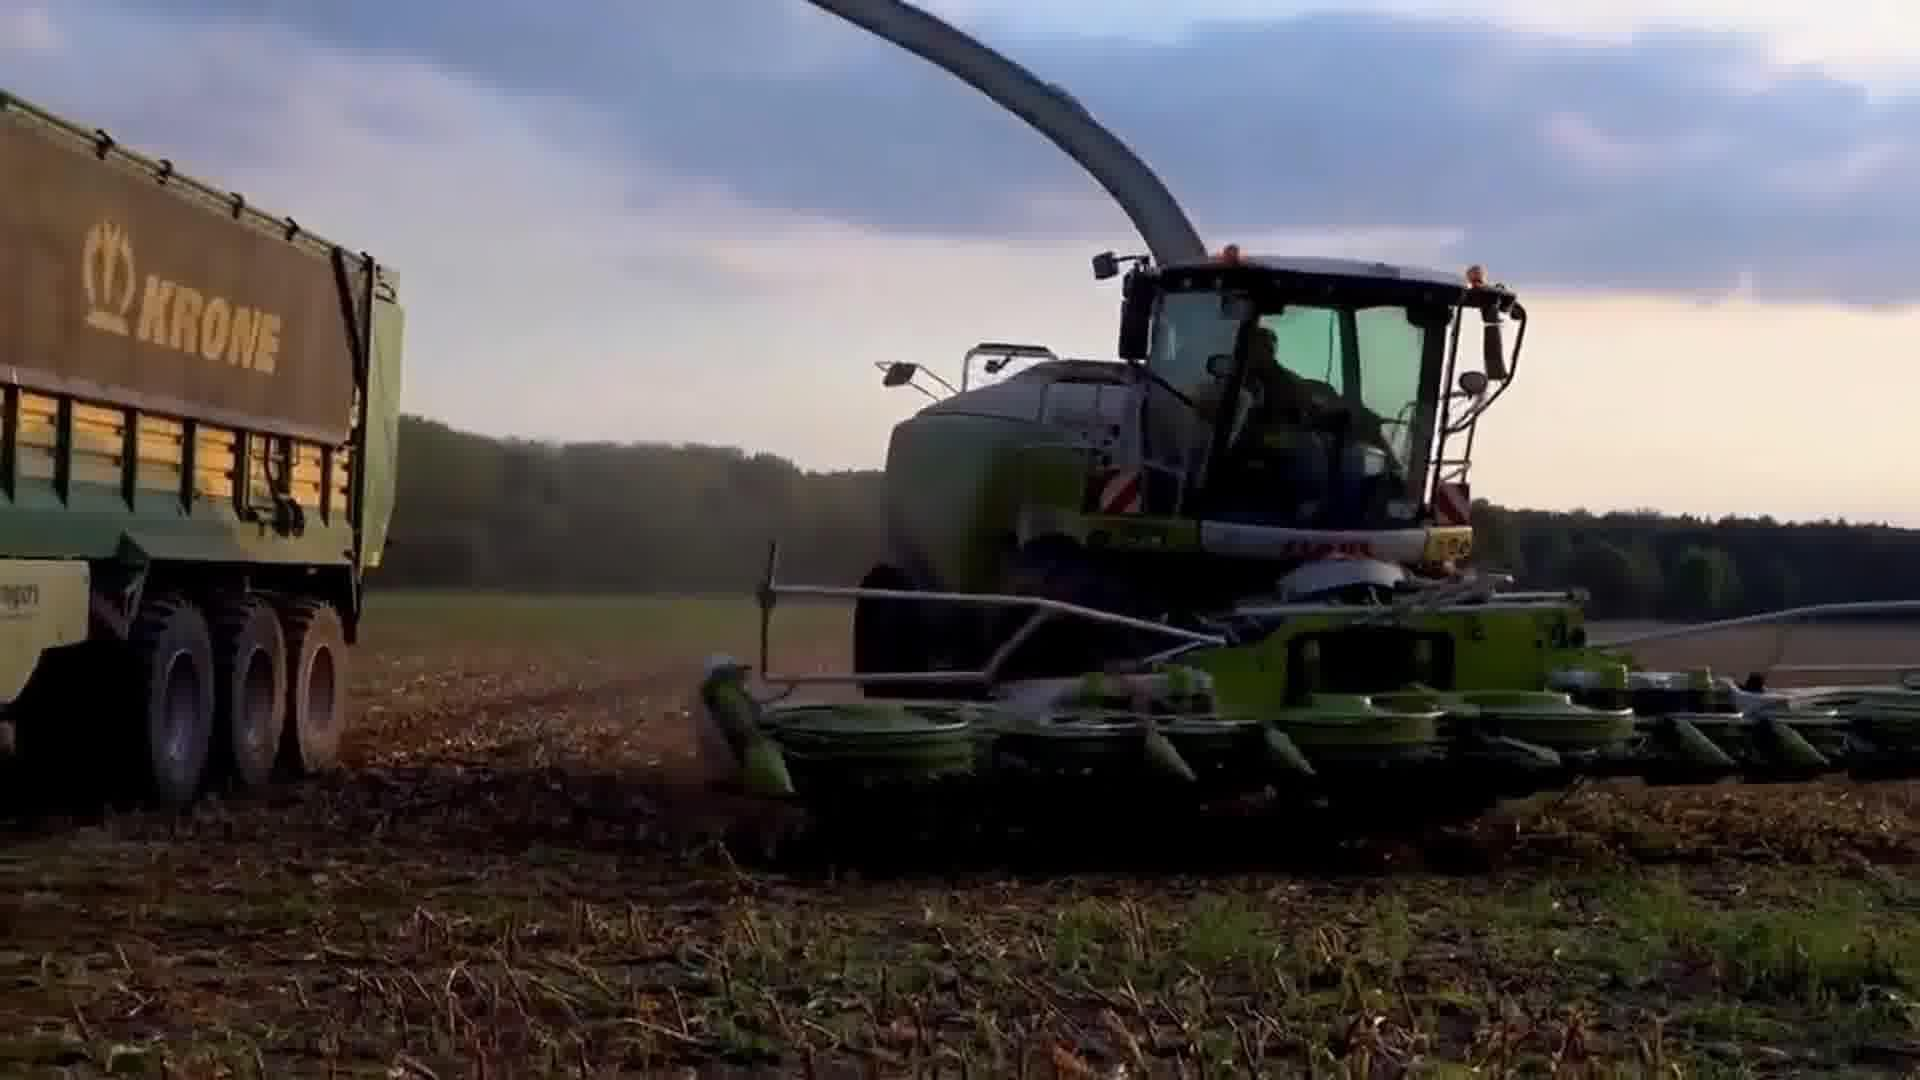combine harvester: (684, 0, 1920, 907)
trailer: (0, 79, 419, 820)
